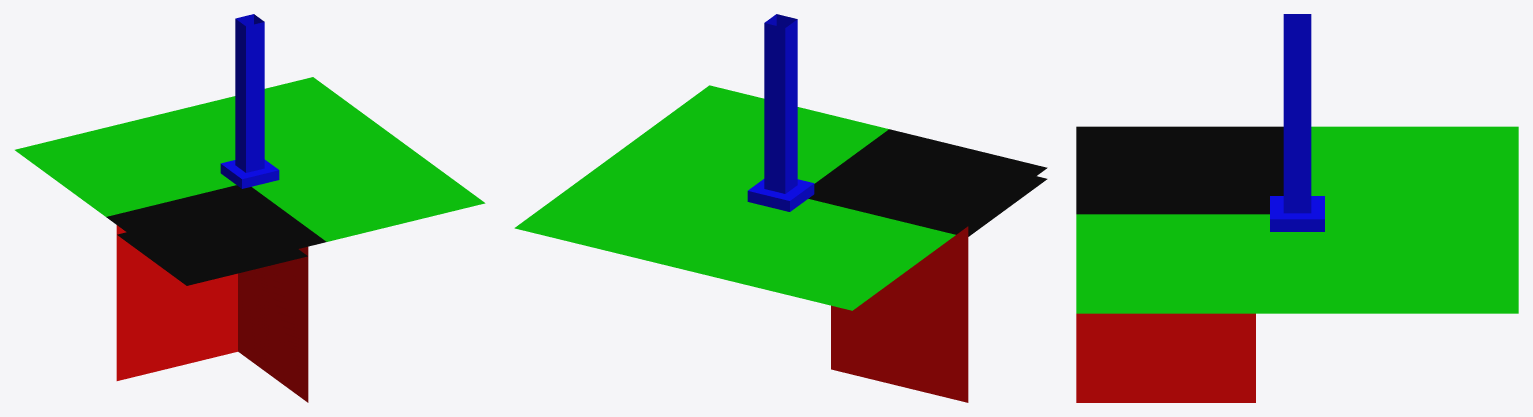
File: None_W_W_E_E_W_P_E_E_BigStrut.fbx
3 renders of one model, left to right at view 1: azimuth 30°, elevation 25°; view 2: azimuth 150°, elevation 25°; view 3: azimuth 270°, elevation 25°, orthographic. The views are drawn at different scales.
Parts seen in each view (by area): view 1: None_W_W_E_E_W_P_E_E_BigStrut; view 2: None_W_W_E_E_W_P_E_E_BigStrut; view 3: None_W_W_E_E_W_P_E_E_BigStrut.
Boxes of the visible parts, <box> form: None_W_W_E_E_W_P_E_E_BigStrut: <box>15,14,485,402</box>; None_W_W_E_E_W_P_E_E_BigStrut: <box>514,14,1047,402</box>; None_W_W_E_E_W_P_E_E_BigStrut: <box>1076,14,1518,402</box>.
Bounding box in the file's own units: 100 × 100 × 100.
